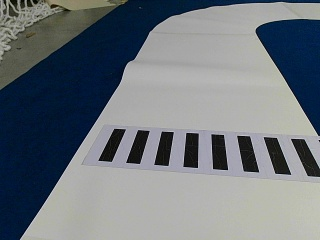crosswalk: (99, 128, 319, 177)
